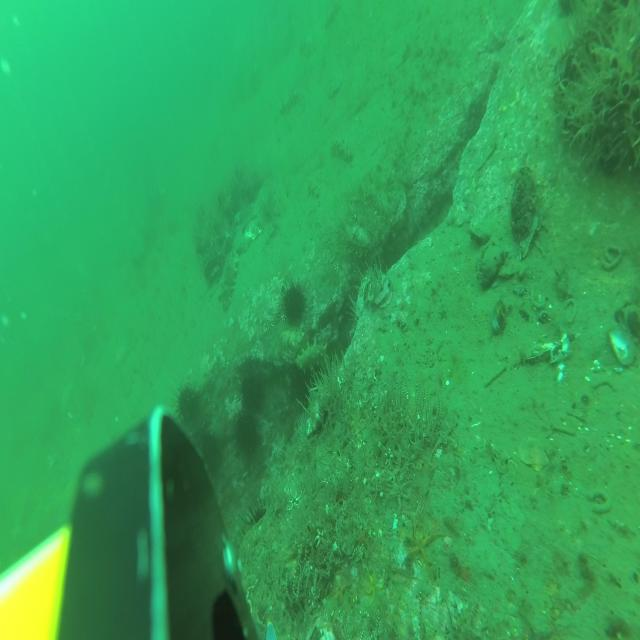echinus: (281, 280, 308, 331), (234, 407, 260, 459), (246, 497, 273, 547), (175, 379, 202, 428), (240, 362, 265, 414), (291, 364, 316, 405), (199, 434, 222, 477)
holothurian: (297, 338, 333, 381), (220, 250, 238, 312), (280, 88, 303, 114), (331, 137, 353, 164), (324, 1, 338, 33), (300, 36, 314, 60), (308, 180, 320, 200)
scallop: (520, 435, 548, 472), (244, 219, 262, 243), (328, 72, 343, 100)
starfish: (410, 514, 441, 566), (362, 564, 386, 605), (332, 577, 351, 607)
